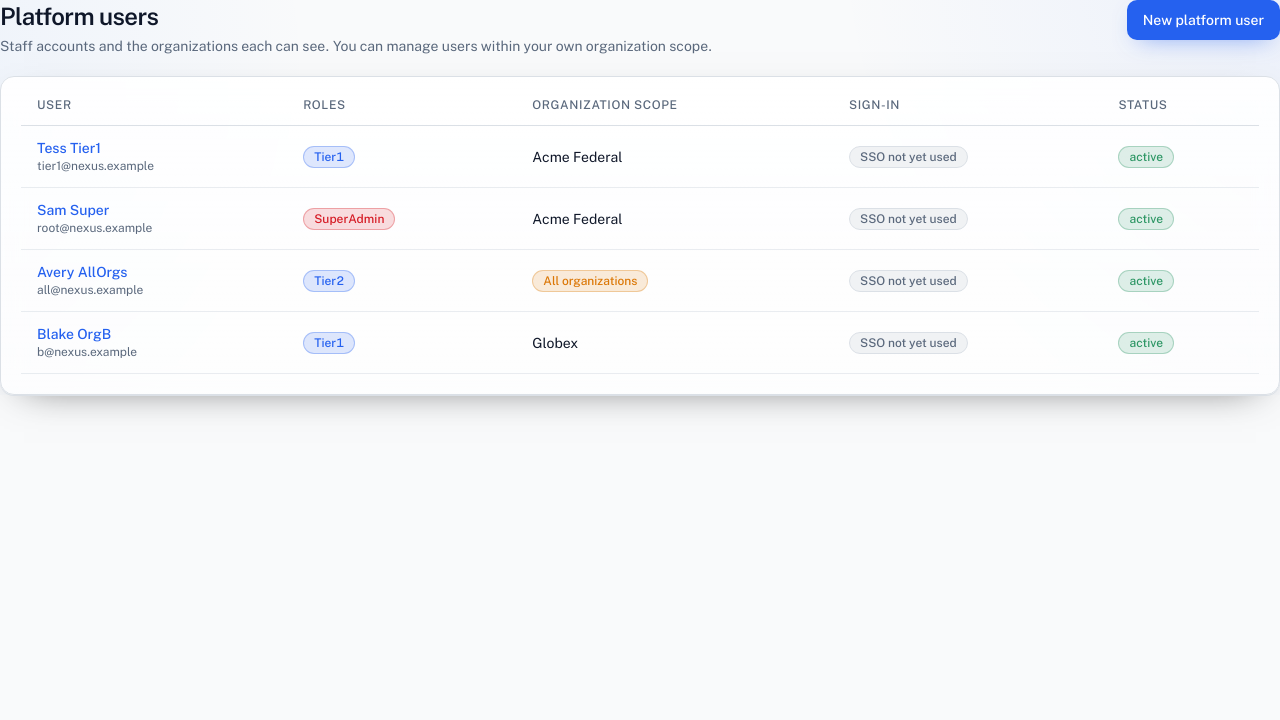
Test: TeamPage for a delegated admin › still opens an in-scope user for editing
Step 1. Click the text "Tess Tier1" → (69, 148), box [37,140,101,156]
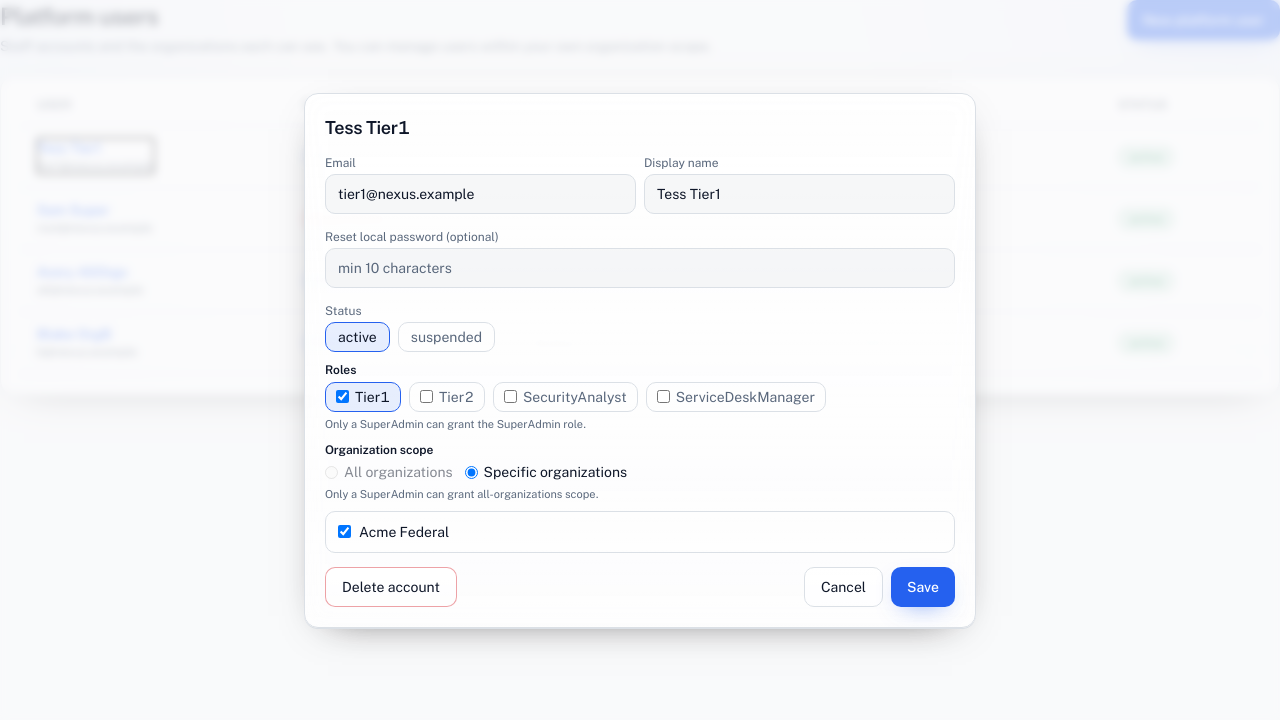
expect the button "Save" is shown: met, box [891,566,955,606]
